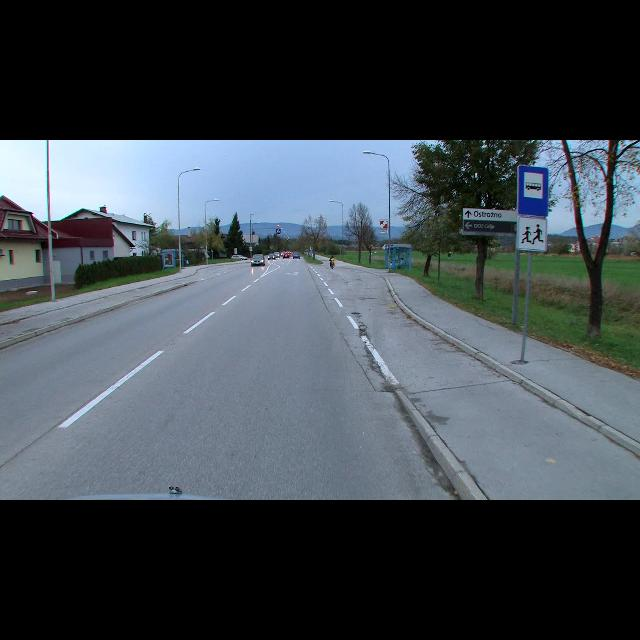Rectangle: (516, 164, 548, 216)
Squared: (515, 215, 549, 252)
